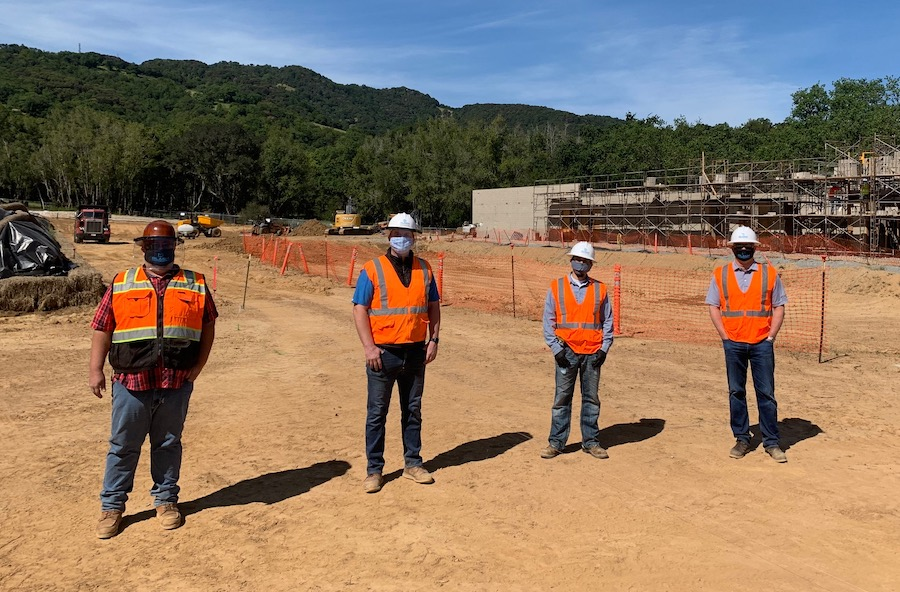With Helmet: (385, 209, 422, 261), (729, 224, 760, 266), (567, 241, 599, 277)
